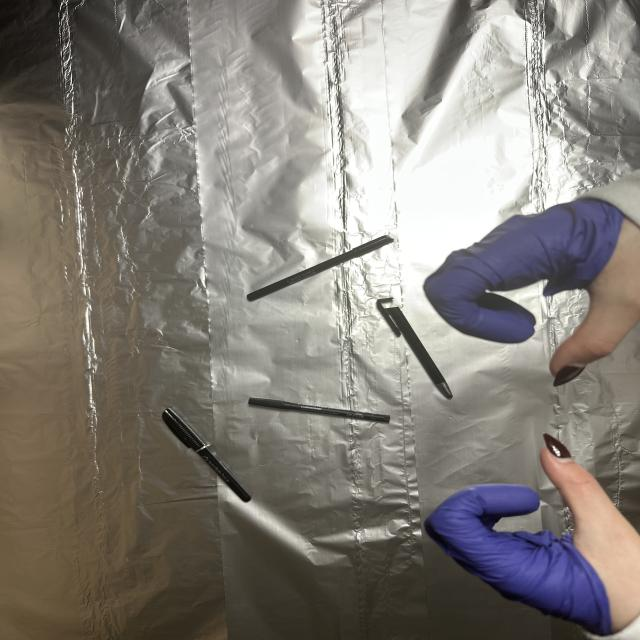glove_partial: (417, 431, 640, 640), (418, 191, 640, 386)
